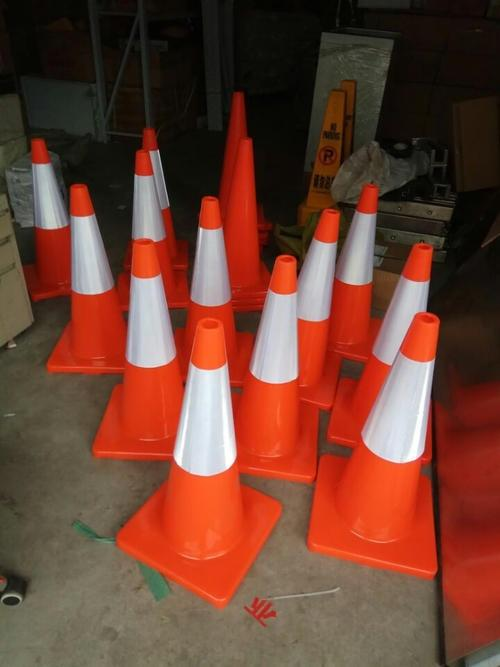cone_barrel: (323, 311, 452, 563), (136, 347, 267, 584), (115, 291, 235, 539), (90, 240, 186, 463), (233, 255, 307, 479), (50, 186, 125, 373), (355, 234, 433, 407), (117, 126, 181, 325), (214, 92, 270, 301), (177, 202, 241, 383), (332, 191, 386, 367), (296, 84, 353, 233), (221, 129, 267, 300), (21, 143, 70, 301), (298, 217, 341, 383)
